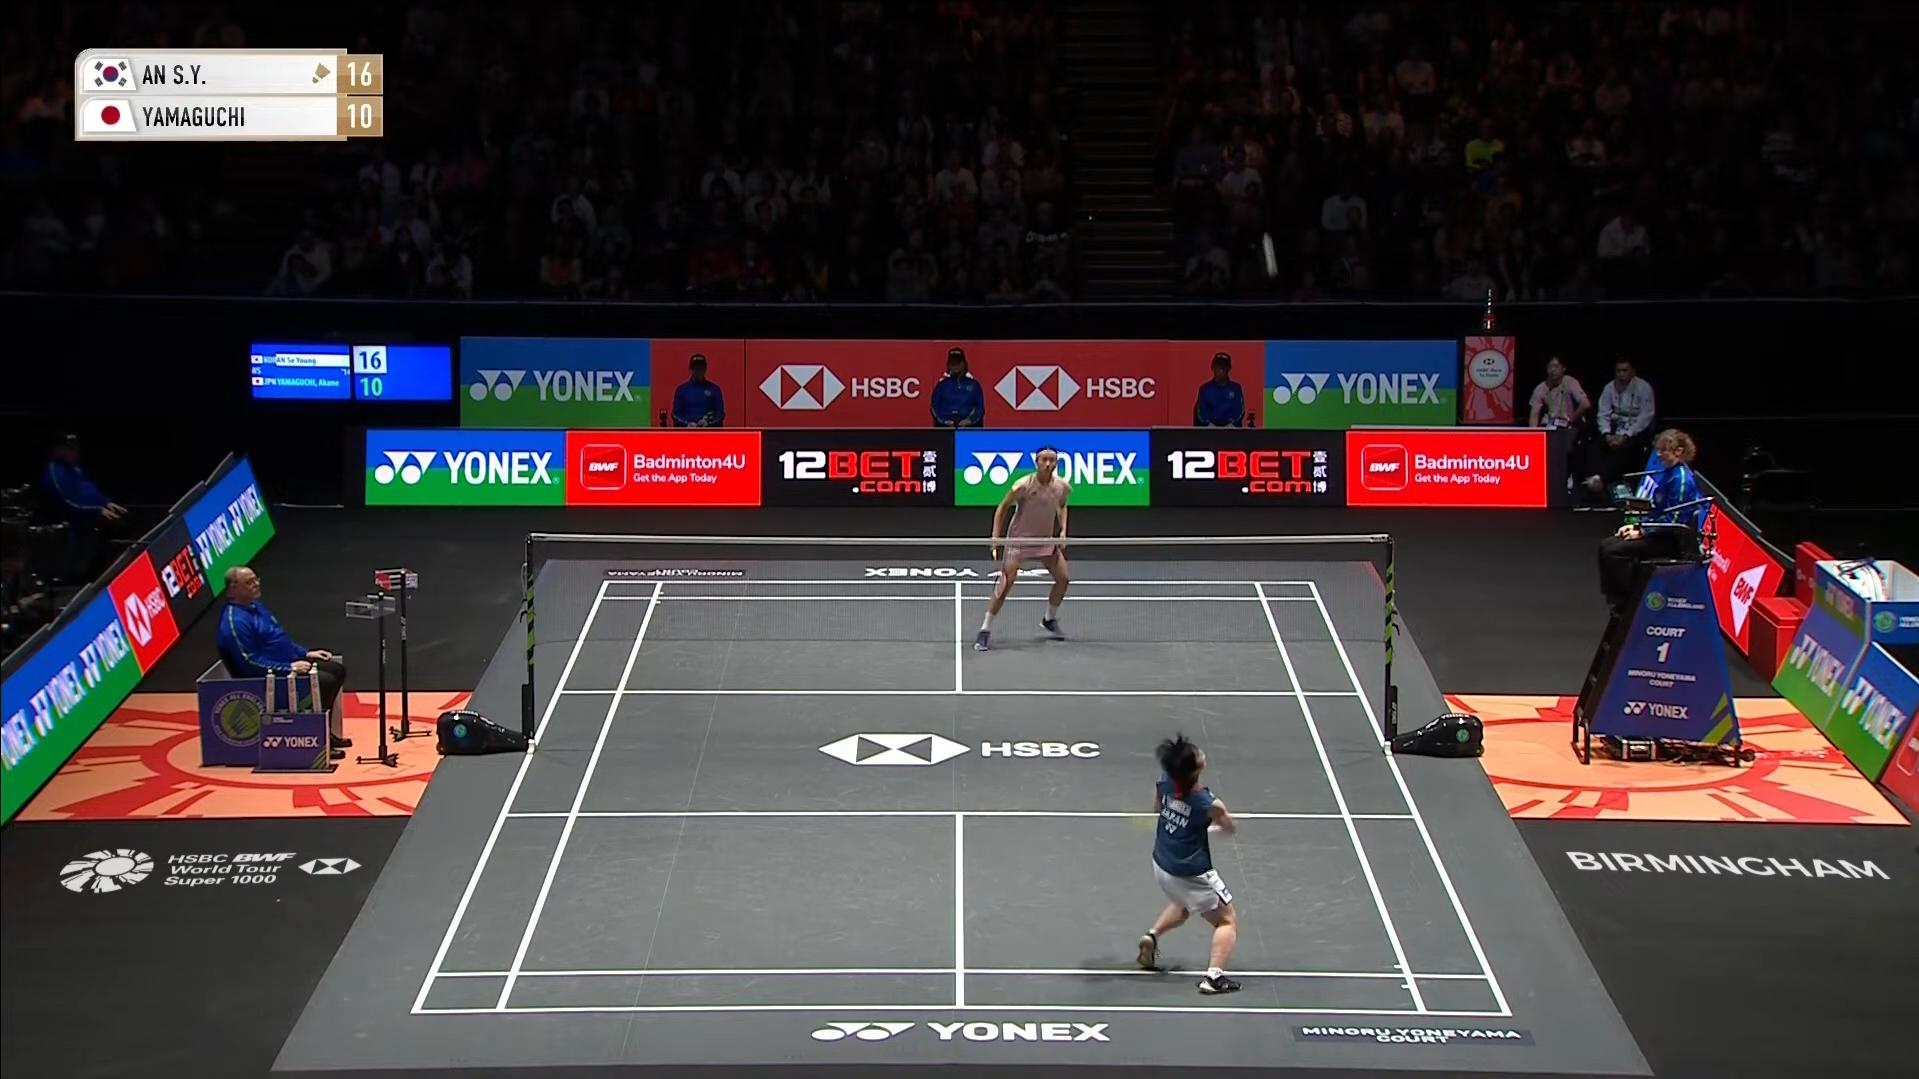shuttle: (1256, 227, 1284, 283)
